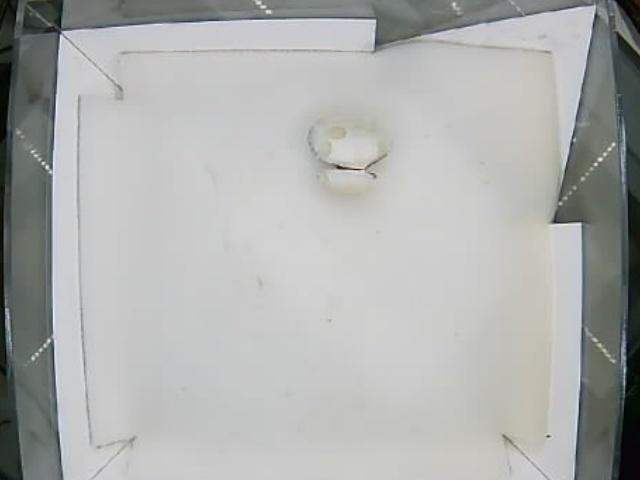Shell: (305, 115, 394, 189)
